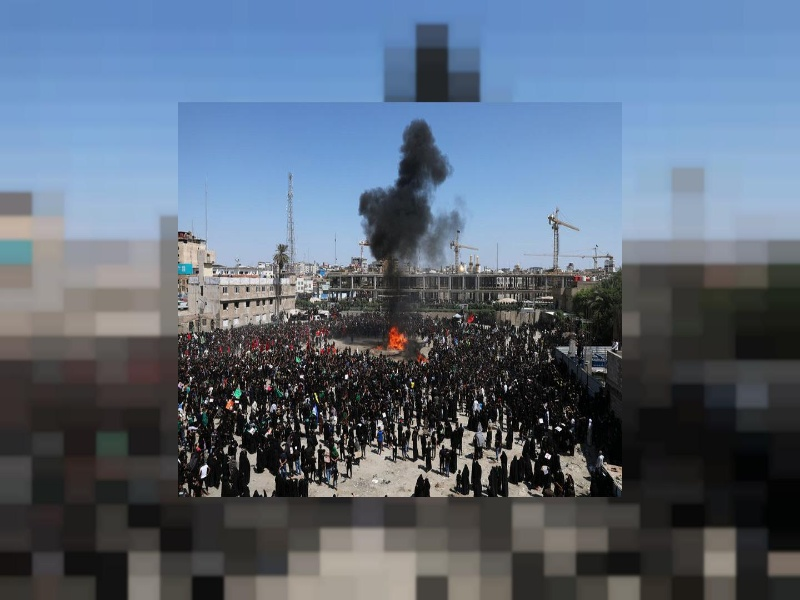smoke: (361, 127, 463, 284)
